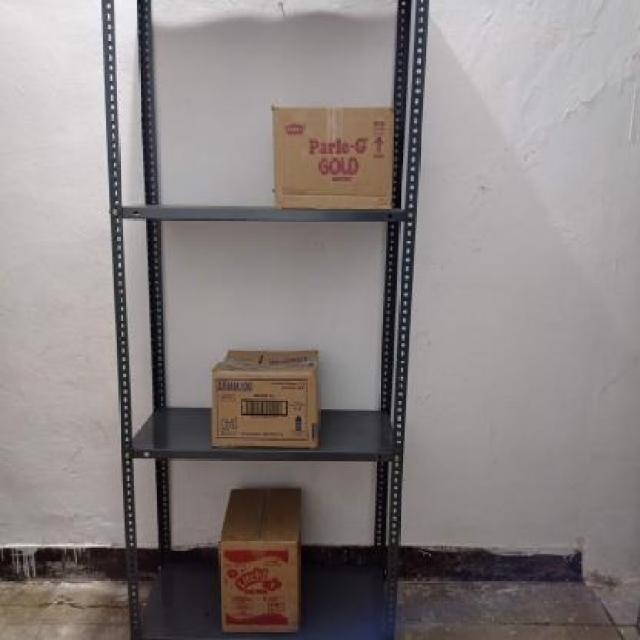box: (270, 103, 396, 214), (210, 366, 321, 451), (221, 540, 299, 636)
